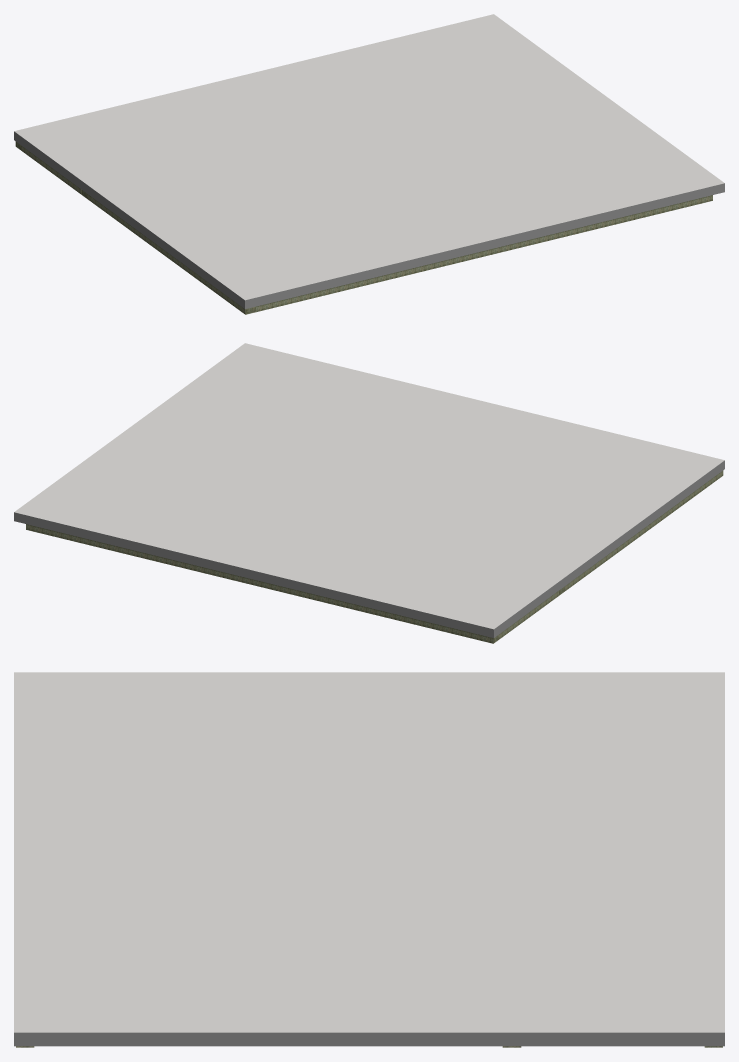
3 views of the same model, one above another, from view 1: azimuth 30°, elevation 25°; view 2: azimuth 150°, elevation 25°; view 3: azimuth 270°, elevation 25° (orthographic). The views are drawn at different scales.
Parts seen in each view (by area): view 1: Floor Floor-Grnd-Bearing_65Scr-90Ins-125Conc-50SBld-150Hcore, Concrete - Rectangular Beam 250 x 350 mm [653979]001, Concrete - Rectangular Beam 250 x 350 mm [653859]001; view 2: Floor Floor-Grnd-Bearing_65Scr-90Ins-125Conc-50SBld-150Hcore, Concrete - Rectangular Beam 250 x 350 mm [653534]001, Concrete - Rectangular Beam 250 x 350 mm [653859]001; view 3: Floor Floor-Grnd-Bearing_65Scr-90Ins-125Conc-50SBld-150Hcore.
Boxes of the visible parts, x1,y1,x2,y2 form: Floor Floor-Grnd-Bearing_65Scr-90Ins-125Conc-50SBld-150Hcore: [14, 14, 724, 308]; Concrete - Rectangular Beam 250 x 350 mm [653979]001: [256, 195, 712, 312]; Concrete - Rectangular Beam 250 x 350 mm [653859]001: [87, 194, 255, 314]; Floor Floor-Grnd-Bearing_65Scr-90Ins-125Conc-50SBld-150Hcore: [14, 343, 724, 637]; Concrete - Rectangular Beam 250 x 350 mm [653534]001: [26, 524, 499, 643]; Concrete - Rectangular Beam 250 x 350 mm [653859]001: [565, 470, 723, 590]; Floor Floor-Grnd-Bearing_65Scr-90Ins-125Conc-50SBld-150Hcore: [14, 672, 724, 1046].
Bounding box in the file's own units: 11.58 × 0.35 × 9.66.
Materials: 3 (1 with a texture image).
